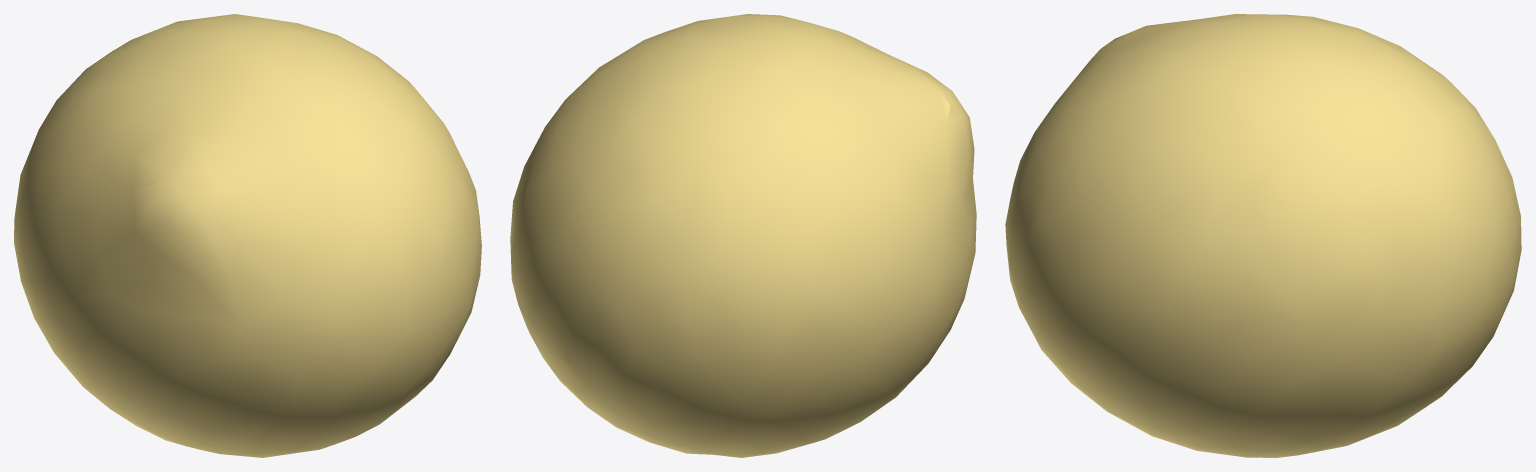
File: fma73492_fj7487.glb
3 renders of one model, left to right at view 1: azimuth 30°, elevation 25°; view 2: azimuth 150°, elevation 25°; view 3: azimuth 270°, elevation 25°, orthographic. The views are drawn at different scales.
Parts seen in each view (by area): view 1: FMA73492_FJ7487; view 2: FMA73492_FJ7487; view 3: FMA73492_FJ7487.
Boxes of the visible parts, x1,y1,x2,y2 form: FMA73492_FJ7487: (14,14,481,457); FMA73492_FJ7487: (510,14,976,457); FMA73492_FJ7487: (1005,14,1521,457).
Bounding box in the file's own units: 0.00568 × 0.00538 × 0.00632.
